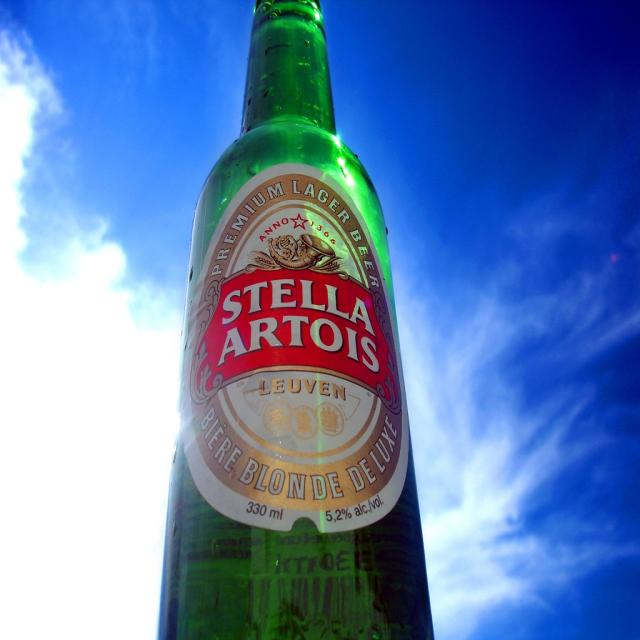stellaartois: (189, 174, 403, 513)
